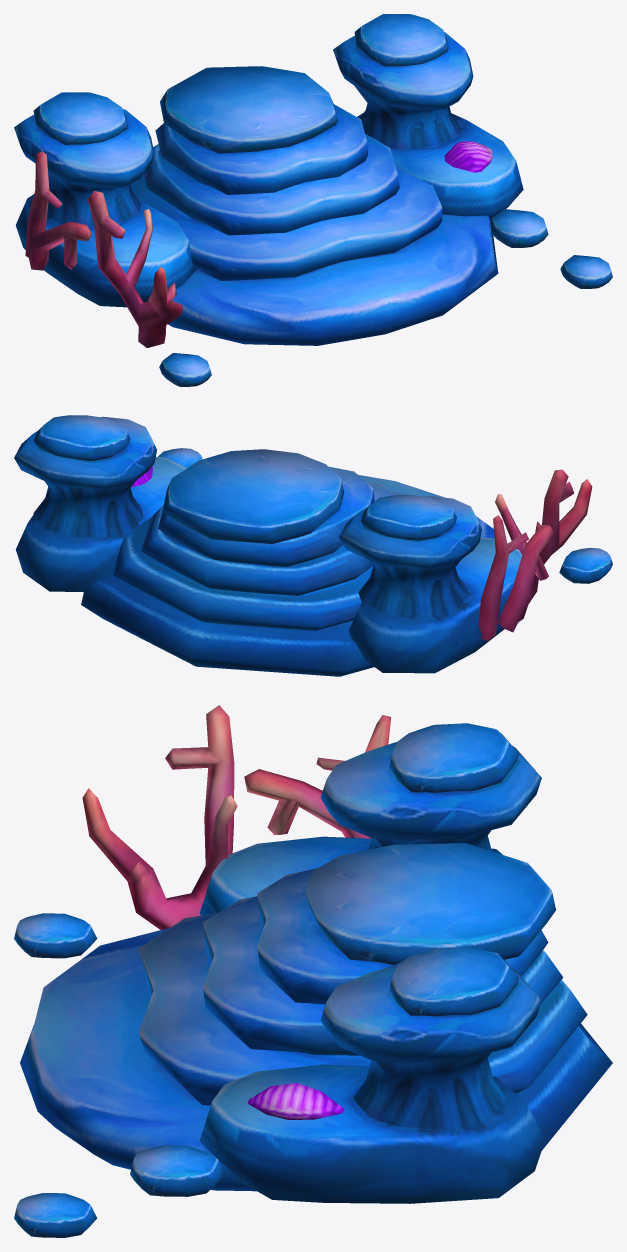
The model's file is shitou05.FBX.
The picture shows the model from 3 angles, top to bottom: view 1: azimuth 30°, elevation 25°; view 2: azimuth 150°, elevation 25°; view 3: azimuth 270°, elevation 25°; orthographic projection. The views are drawn at different scales.
Parts seen in each view (by area): view 1: shitou05; view 2: shitou05; view 3: shitou05.
Boxes of the visible parts, box(x1,y1,x2,y2) form: shitou05: box(14, 14, 612, 386); shitou05: box(14, 415, 612, 676); shitou05: box(14, 705, 612, 1237).
Bounding box in the file's own units: 177 × 61.48 × 137.
